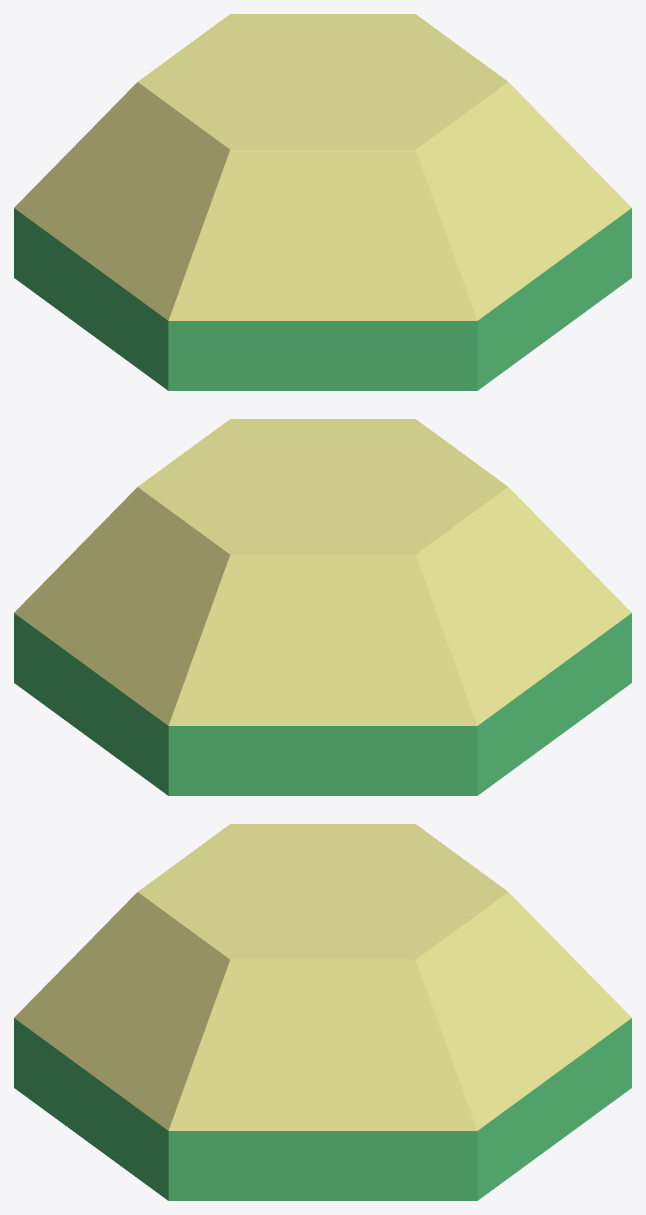
File: hillHex.fbx
The picture shows the model from 3 angles, top to bottom: view 1: azimuth 30°, elevation 25°; view 2: azimuth 150°, elevation 25°; view 3: azimuth 270°, elevation 25°; orthographic projection.
Visible parts, largest first — view 1: Hill, Tile; view 2: Hill, Tile; view 3: Hill, Tile.
Boxes of the visible parts, box(x1,y1,x2,y2) form: Hill: box(14, 14, 631, 320); Tile: box(14, 208, 631, 390); Hill: box(14, 419, 631, 725); Tile: box(14, 613, 631, 795); Hill: box(14, 824, 631, 1130); Tile: box(14, 1018, 631, 1200).
Size of the model in its own units: 173 by 70 by 200.
